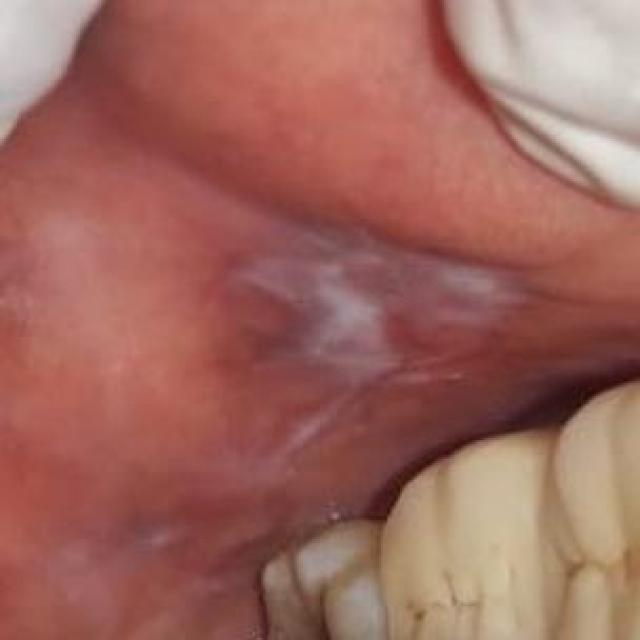leukoplakia-detection: (203, 208, 637, 499)
processing_area: (0, 1, 638, 638)
